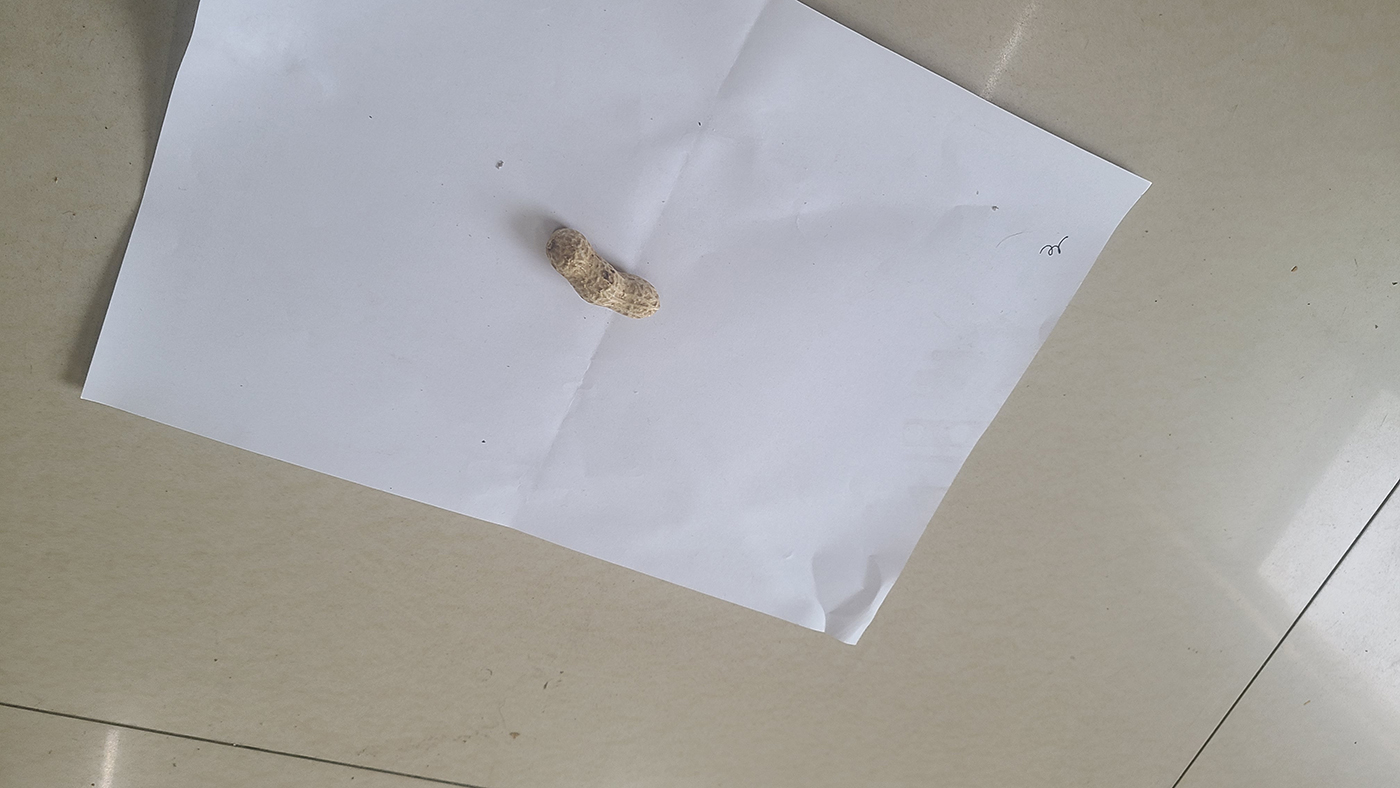h: (545, 225, 661, 319)
